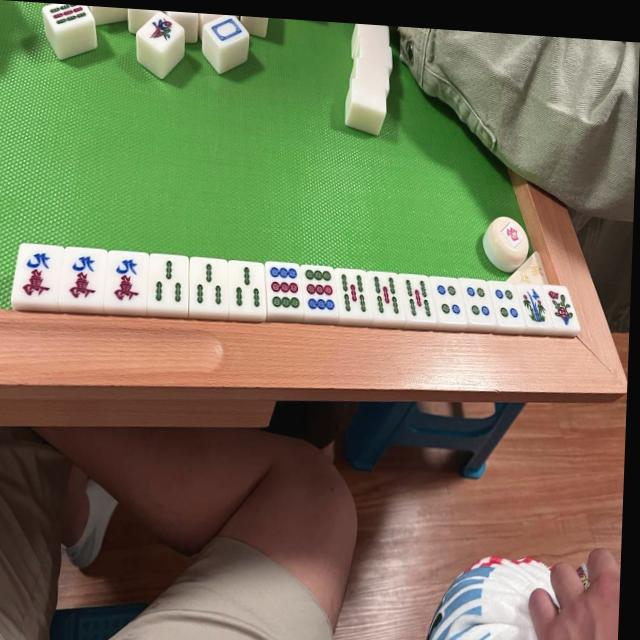f4: (521, 285, 546, 328)
ff4: (546, 287, 575, 330)
m9: (18, 246, 60, 305), (64, 248, 103, 305), (109, 253, 147, 308)
s3: (149, 256, 187, 310), (192, 259, 228, 313), (233, 263, 265, 313)
s5: (403, 275, 433, 323), (372, 272, 402, 320), (339, 271, 369, 317)
t4: (435, 278, 462, 324), (465, 281, 490, 325), (492, 284, 519, 323)
t9: (267, 264, 302, 314), (303, 266, 337, 317)
